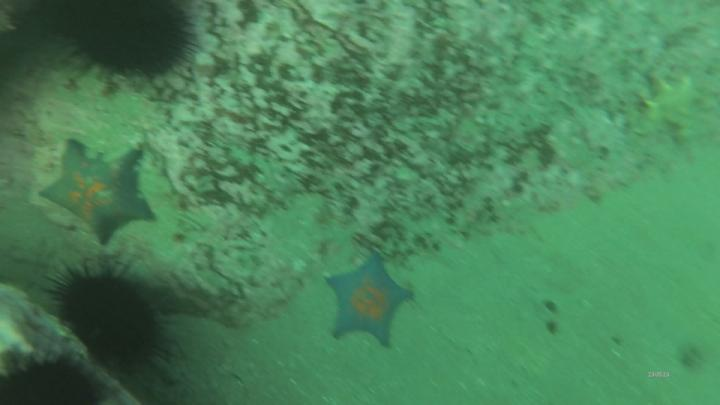echinus: (39, 259, 170, 365), (61, 4, 202, 91), (3, 353, 99, 405)
holothurian: (641, 73, 707, 139)
starfish: (43, 135, 157, 242), (323, 246, 414, 349)
